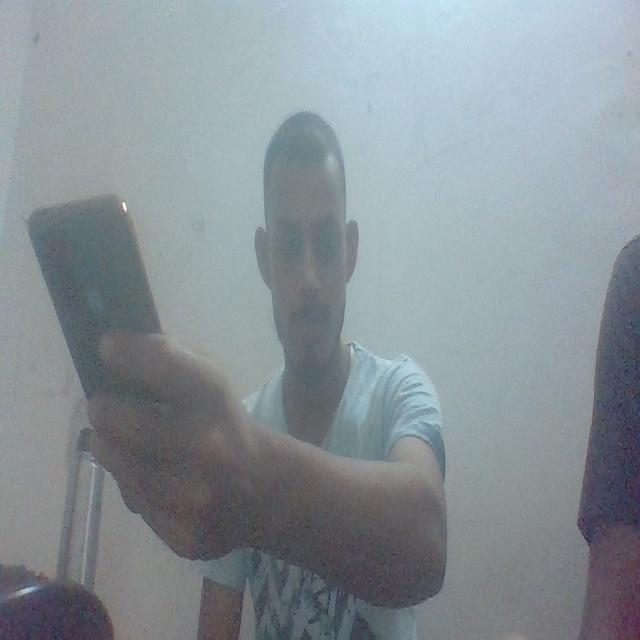Phone: (20, 187, 168, 432)
